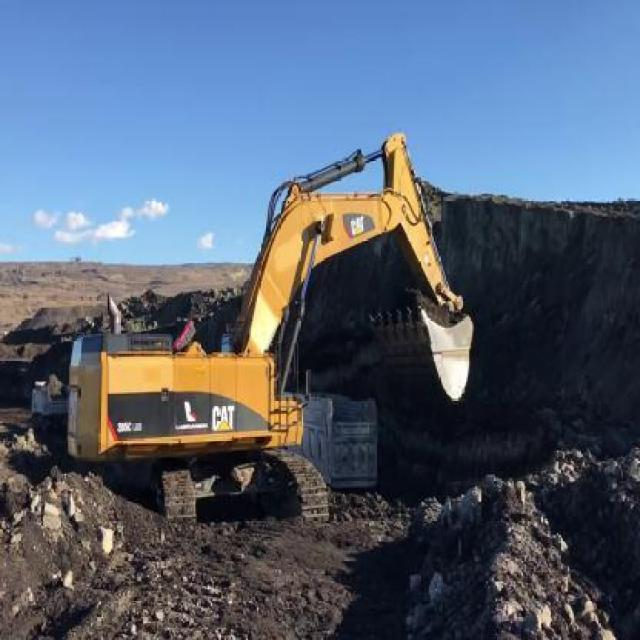Dump Truck: (299, 391, 378, 492)
Excavator: (69, 126, 474, 534)
